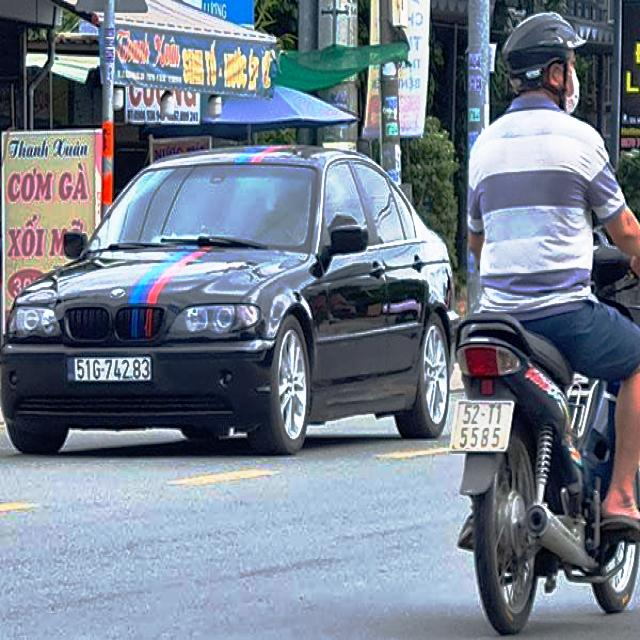license_plate: (452, 399, 514, 452), (75, 354, 153, 386)
